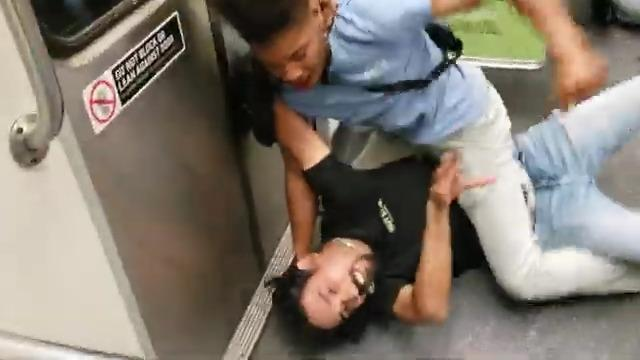violence: (211, 0, 640, 335)
